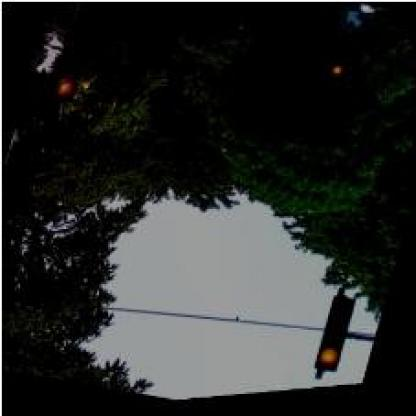red: (47, 22, 92, 103), (314, 301, 356, 381)
